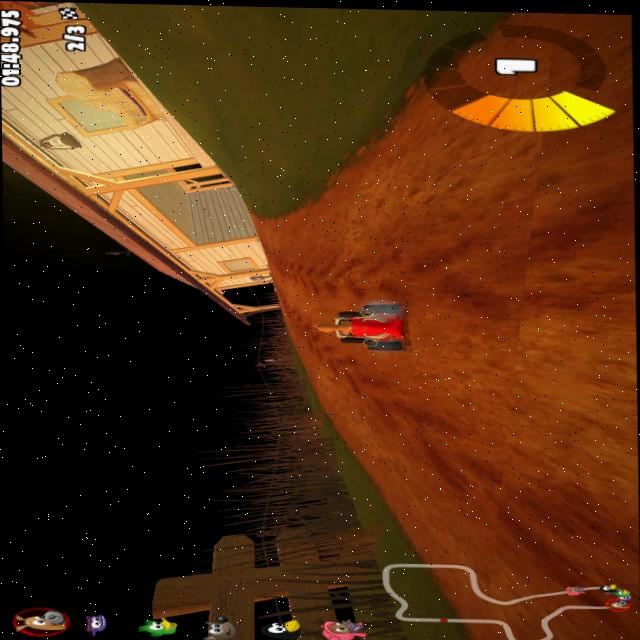player_kart: (318, 302, 411, 355)
track: (465, 279, 640, 640), (297, 195, 636, 283), (356, 115, 640, 202), (502, 11, 637, 120), (411, 350, 470, 555), (329, 352, 408, 442), (405, 277, 466, 350), (321, 276, 405, 303), (266, 217, 299, 276), (371, 439, 408, 488), (301, 299, 320, 371), (271, 274, 320, 299), (436, 557, 468, 595), (283, 297, 304, 337), (389, 487, 407, 508), (250, 214, 261, 234)
